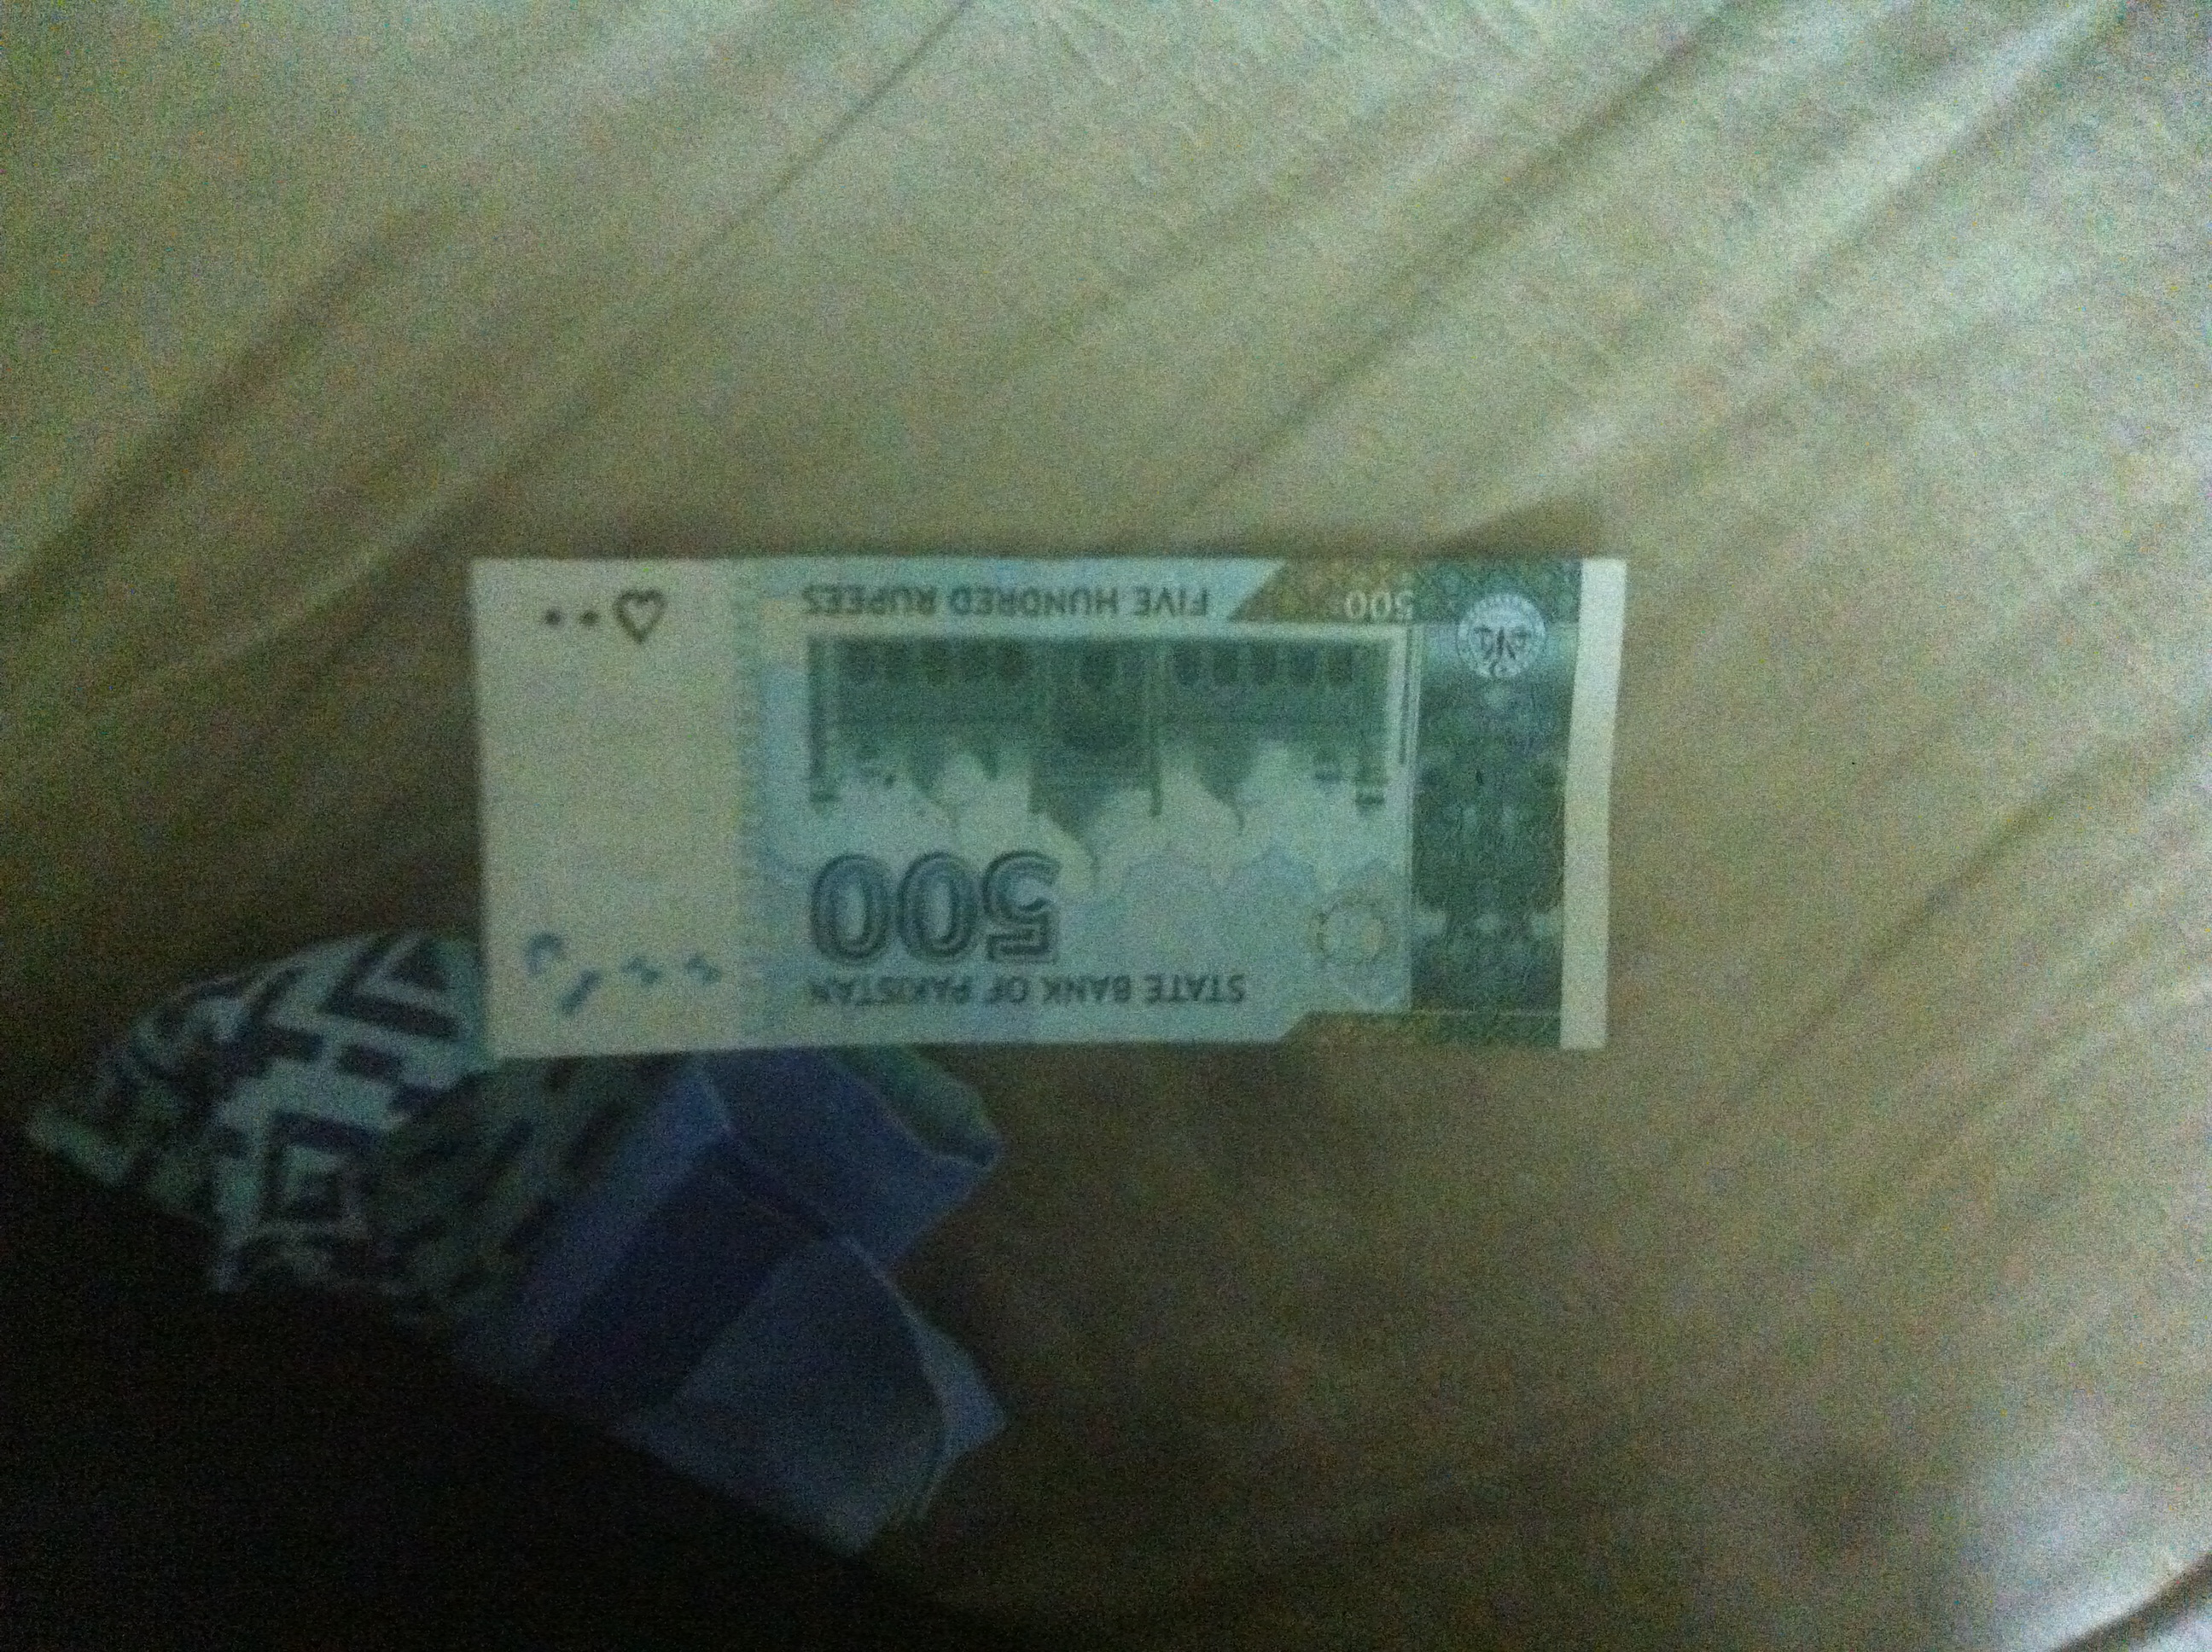500 rupee: (456, 548, 1650, 1138)
